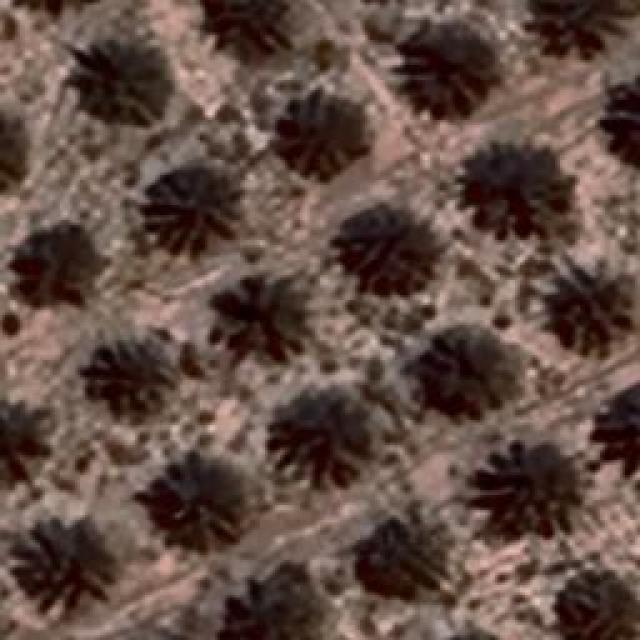PalmTree: (455, 144, 575, 234), (478, 432, 572, 538), (405, 23, 500, 126), (212, 272, 312, 366), (18, 518, 112, 614), (68, 35, 170, 123), (341, 201, 429, 299), (365, 511, 450, 609), (284, 392, 368, 488), (92, 342, 182, 430), (151, 454, 244, 534), (18, 224, 98, 316), (277, 91, 365, 171), (139, 170, 229, 242), (548, 268, 624, 352), (224, 587, 337, 640), (555, 575, 640, 640), (211, 0, 294, 65), (527, 0, 630, 52), (432, 338, 506, 402), (1, 400, 49, 478), (610, 386, 640, 466), (610, 78, 640, 156), (419, 623, 522, 640), (0, 115, 15, 190)
